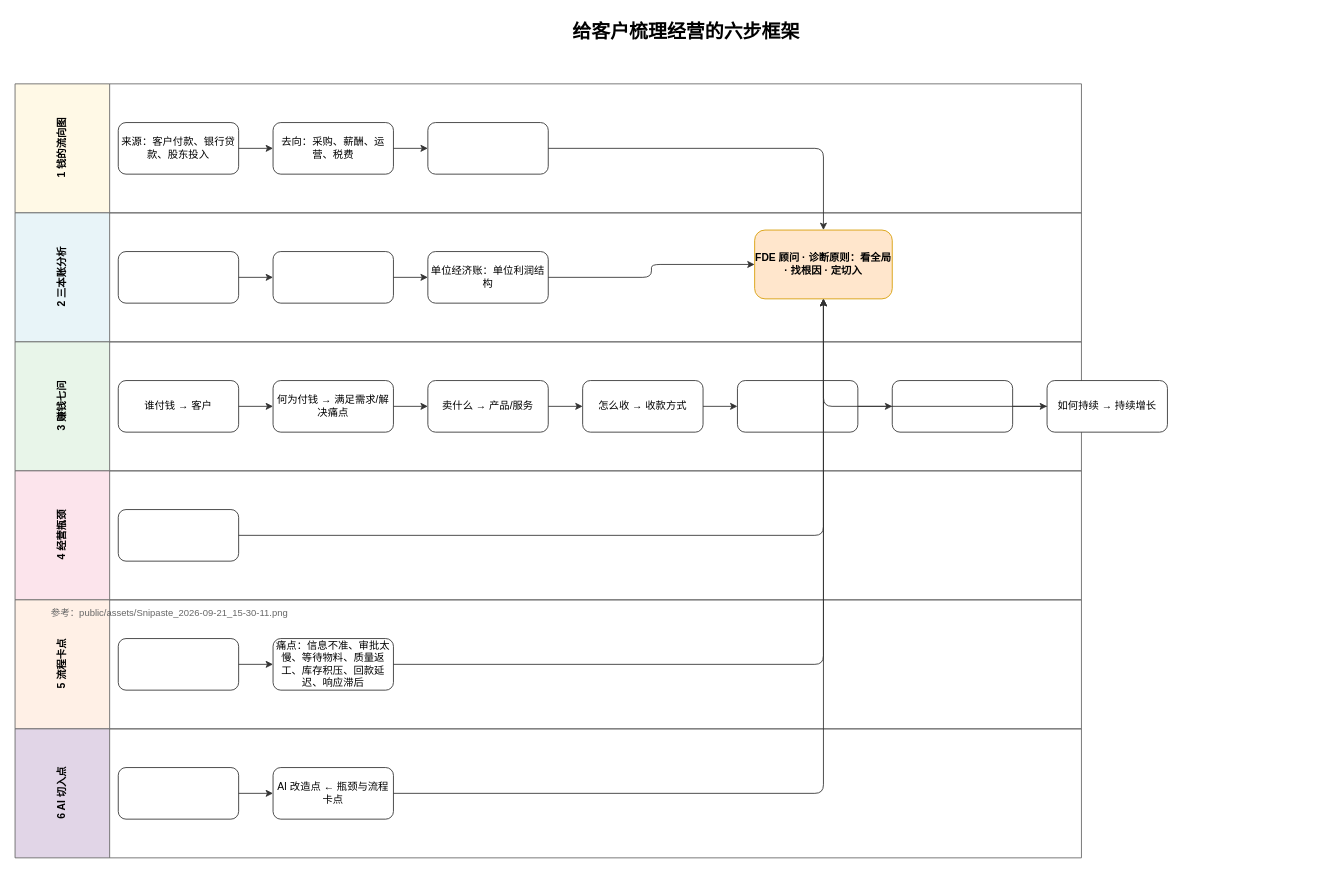
Some shapes in this 1337 by 873 pixel diagram are drawn without their labels. The centre of each missing label's shape, as x and y in pixels:
AI 从哪里切入，才能真正产生价值？: point 178,793
利润在哪 → 利润来源: point 952,406
利润账：收入 - 成本 = 利润: point 178,277
增长和经营卡在哪里？: point 178,535
市场→销售→计划→采购→生产→仓储→财务→客服: point 178,664
怎么交 → 交付履约: point 797,406
现金账：流入 - 流出 = 净现金: point 332,277
留存：再投资、留存收益、偿还债务: point 487,148
